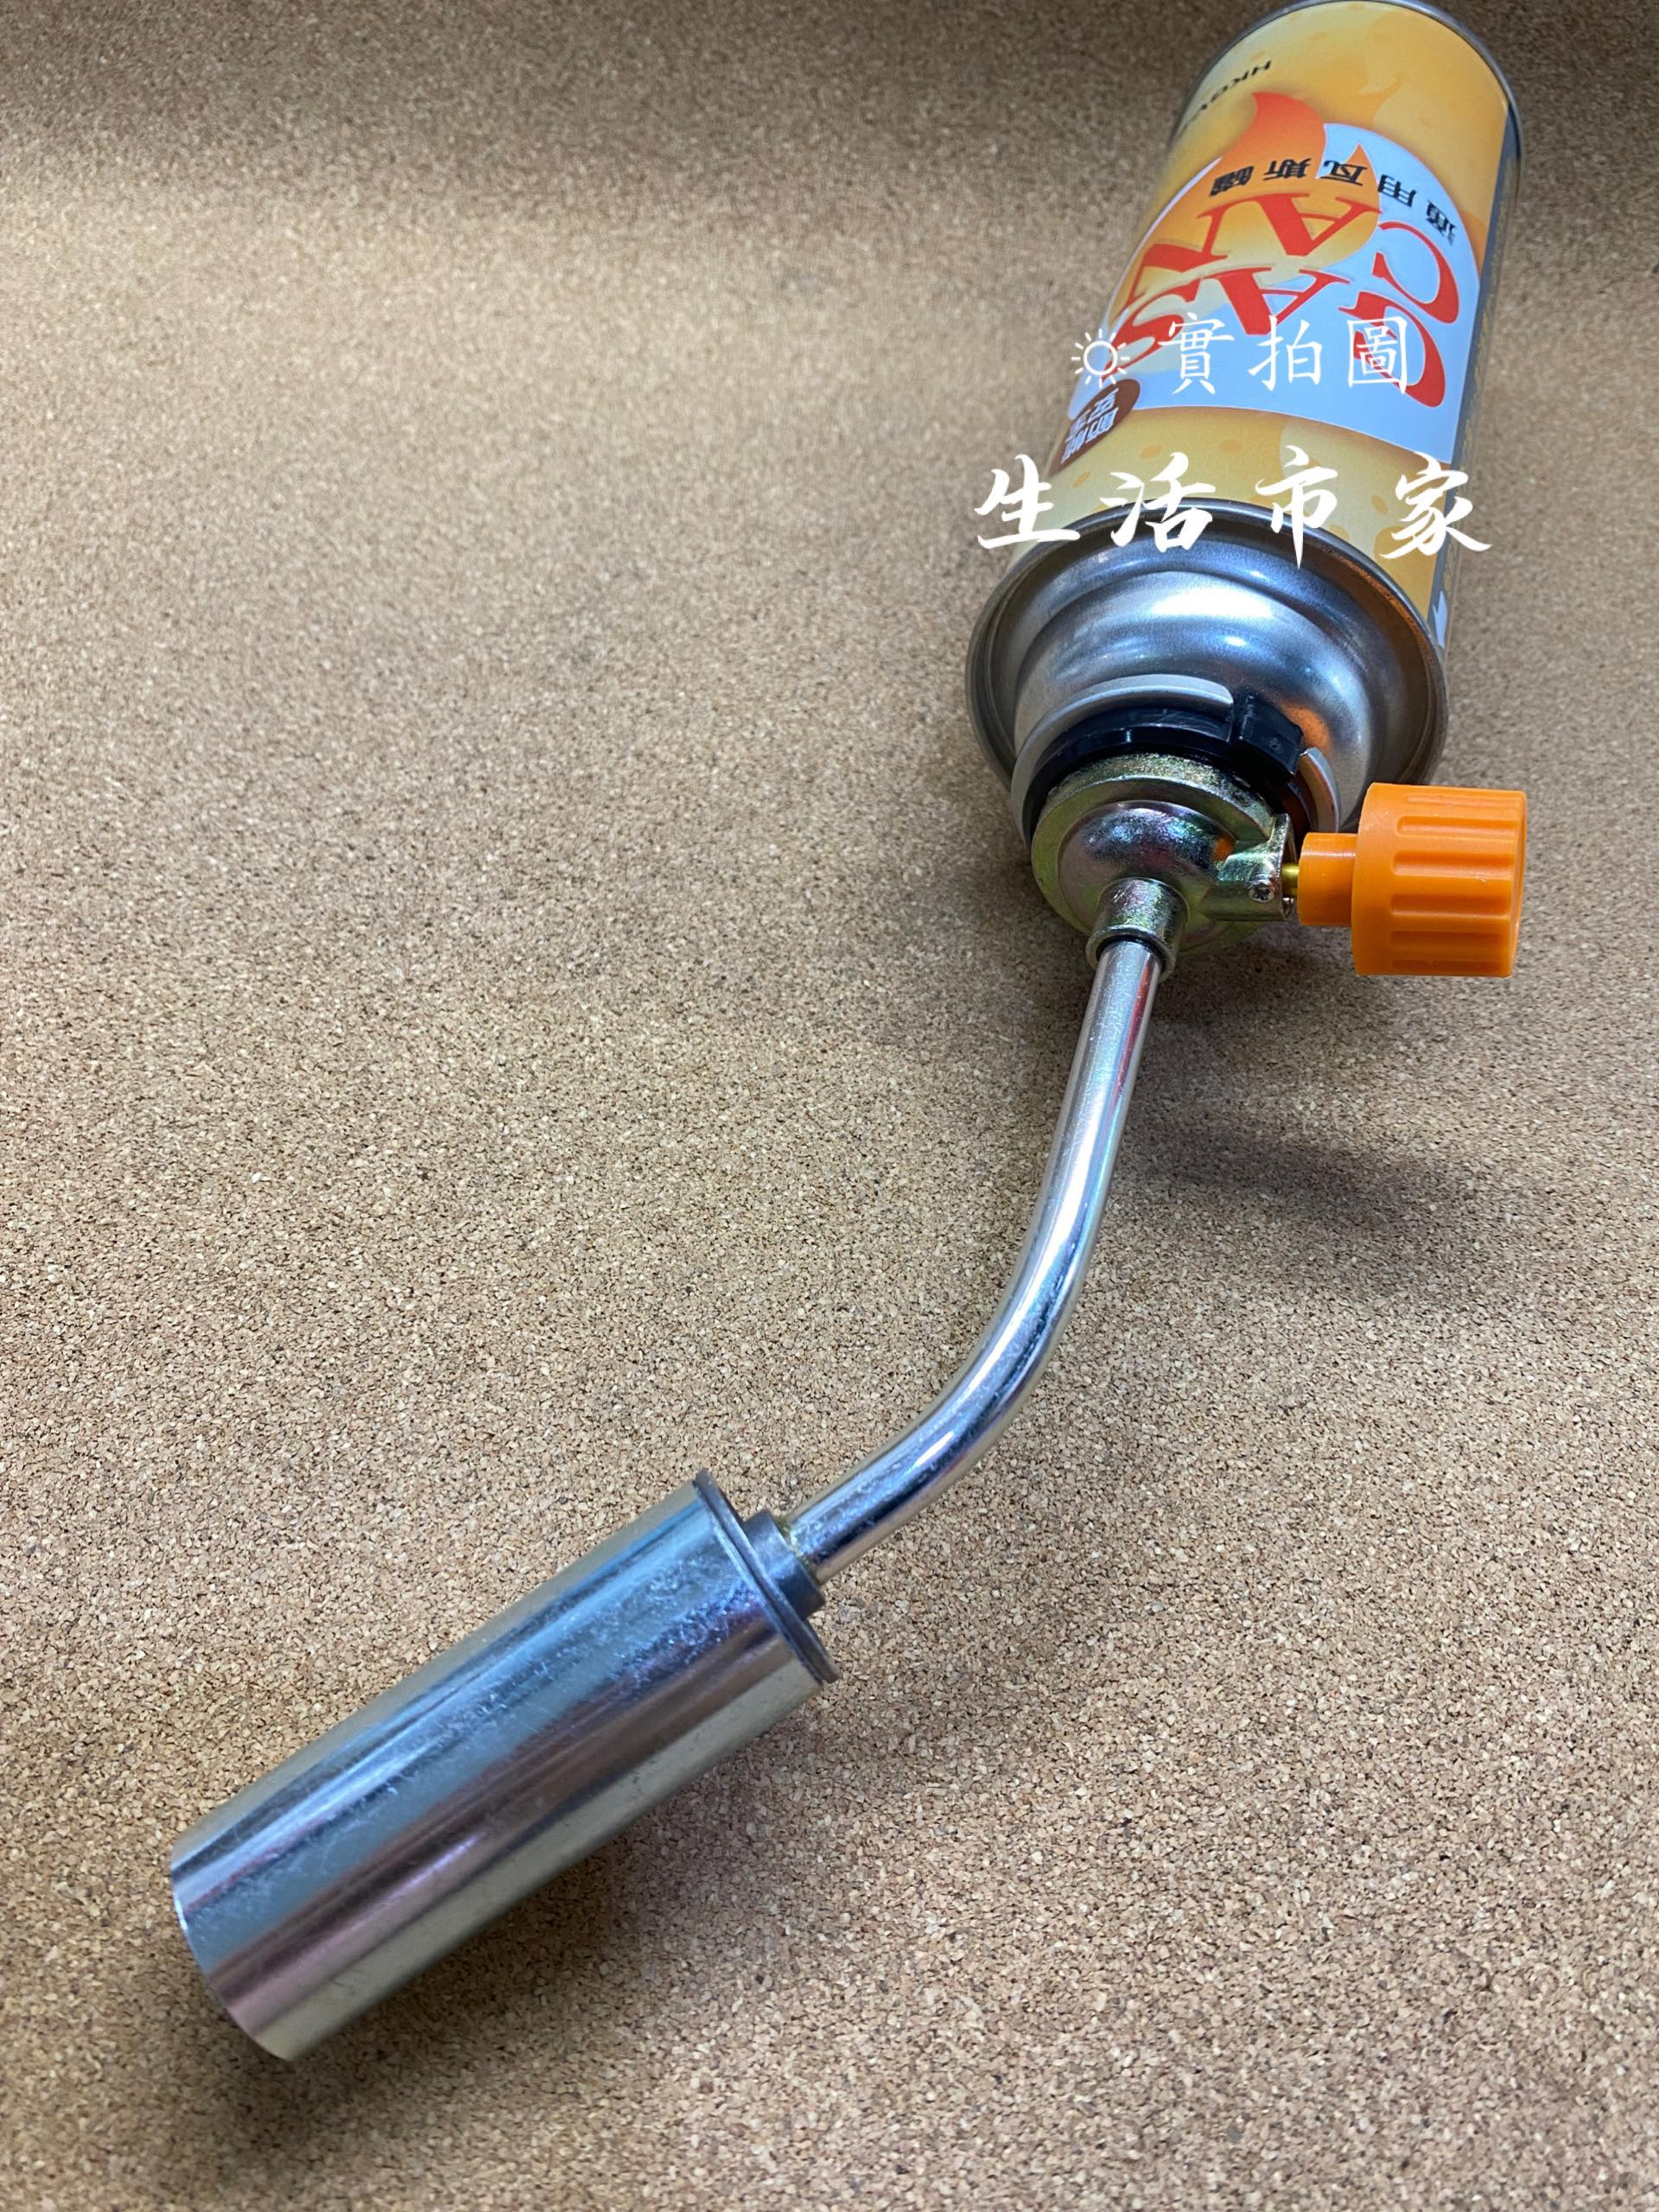gastorch: (80, 28, 1546, 2101)
